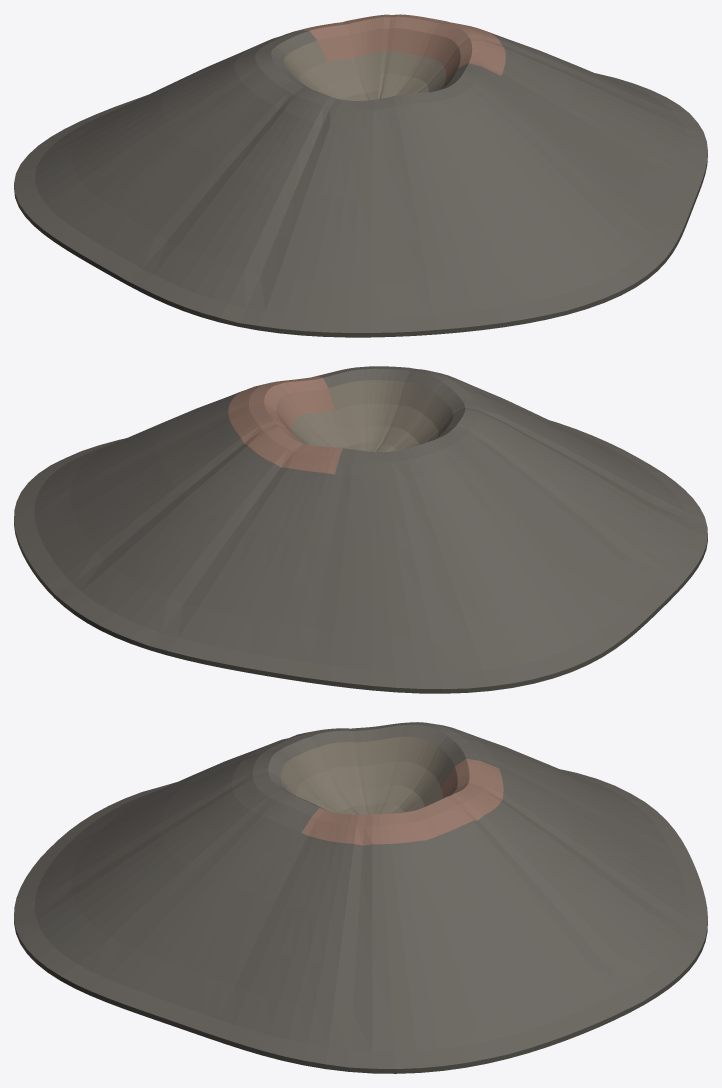
File: cinder-cone.glb
The picture shows the model from 3 angles, top to bottom: view 1: azimuth 30°, elevation 25°; view 2: azimuth 150°, elevation 25°; view 3: azimuth 270°, elevation 25°; orthographic projection. The views are drawn at different scales.
Visible parts, largest first — view 1: compact_scoria_cone_continuous_flank_uneven_rim_and_depresse; view 2: compact_scoria_cone_continuous_flank_uneven_rim_and_depresse; view 3: compact_scoria_cone_continuous_flank_uneven_rim_and_depresse.
Part boxes in pixels (left/top/right/bottom): compact_scoria_cone_continuous_flank_uneven_rim_and_depresse: left=14, top=14, right=707, bottom=337; compact_scoria_cone_continuous_flank_uneven_rim_and_depresse: left=14, top=366, right=707, bottom=693; compact_scoria_cone_continuous_flank_uneven_rim_and_depresse: left=14, top=722, right=707, bottom=1073.
Bounding box in the file's own units: 696 × 154 × 660.
